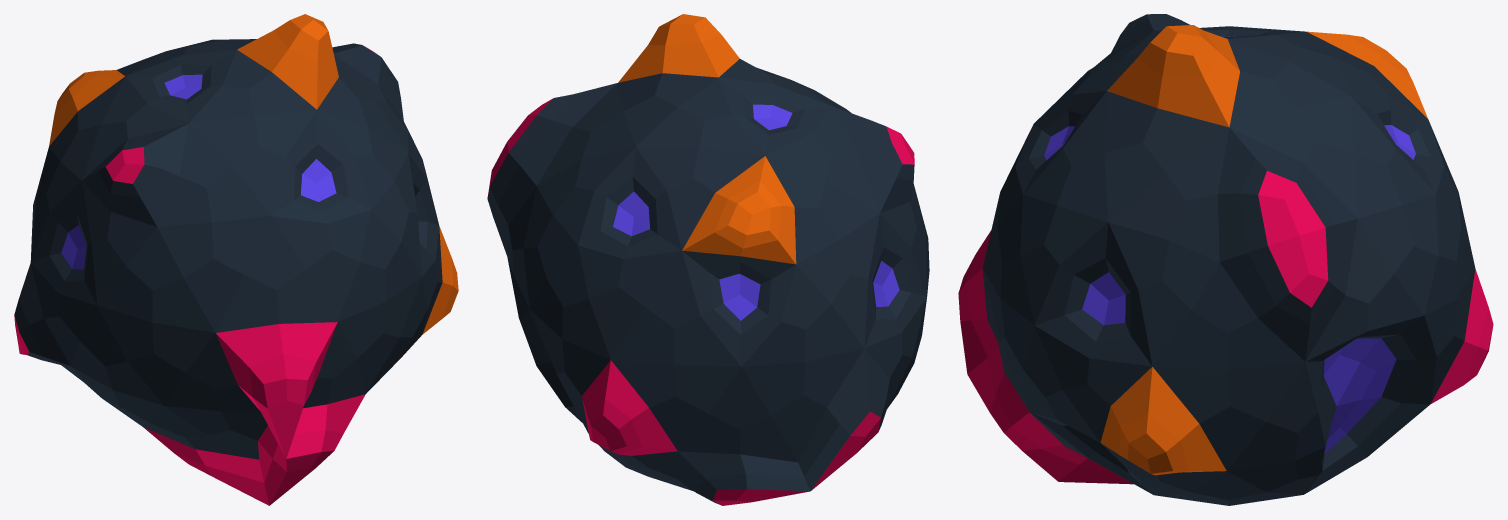
Rendered from Planet4Evo5.glb.
3 renders of one model, left to right at view 1: azimuth 30°, elevation 25°; view 2: azimuth 150°, elevation 25°; view 3: azimuth 270°, elevation 25°, orthographic. The views are drawn at different scales.
Parts seen in each view (by area): view 1: Icosphere.062; view 2: Icosphere.062; view 3: Icosphere.062.
Boxes of the visible parts, x1,y1,x2,y2 form: Icosphere.062: (14,14,458,505); Icosphere.062: (487,14,929,505); Icosphere.062: (958,14,1493,505).
Bounding box in the file's own units: 1.85 × 2 × 1.93.
